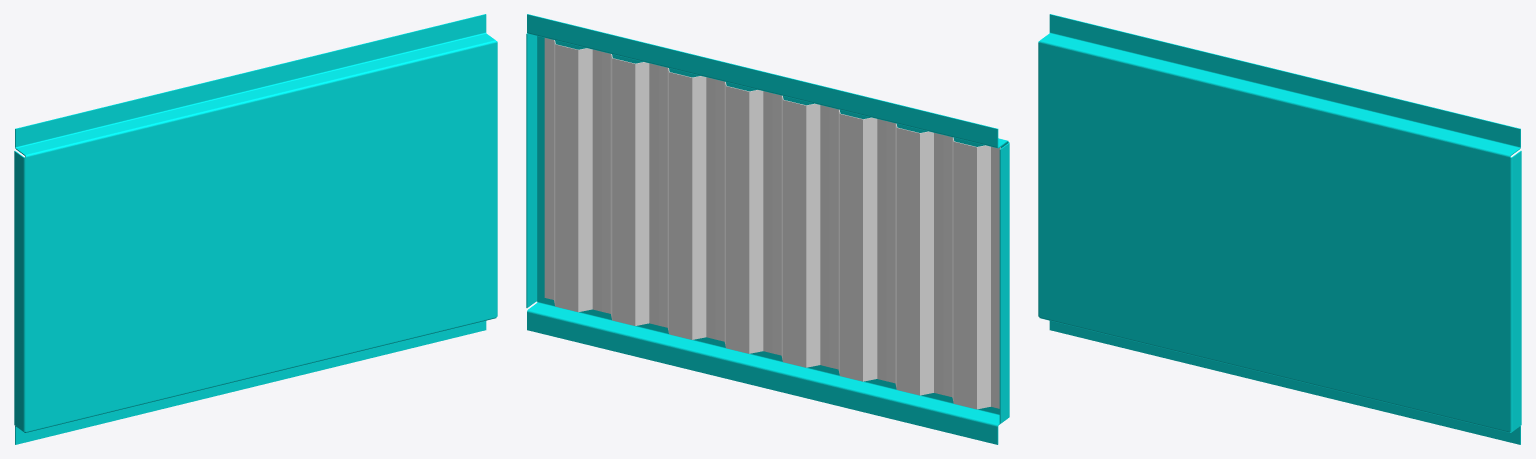
File: Classic.glb
The picture shows the model from 3 angles, left to right: view 1: azimuth 30°, elevation 25°; view 2: azimuth 150°, elevation 25°; view 3: azimuth 330°, elevation 25°; orthographic projection.
Parts seen in each view (by area): view 1: Geom3D; view 2: Geom3D (×2); view 3: Geom3D.
Boxes of the visible parts, x1,y1,x2,y2 form: Geom3D: (14, 14, 497, 444); Geom3D (×2): (526, 14, 1009, 444); Geom3D: (1038, 14, 1521, 444).
Bounding box in the file's own units: 0.5 × 0.318 × 0.02.
